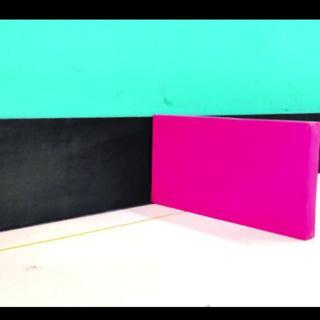xparking: (155, 127, 313, 235)
